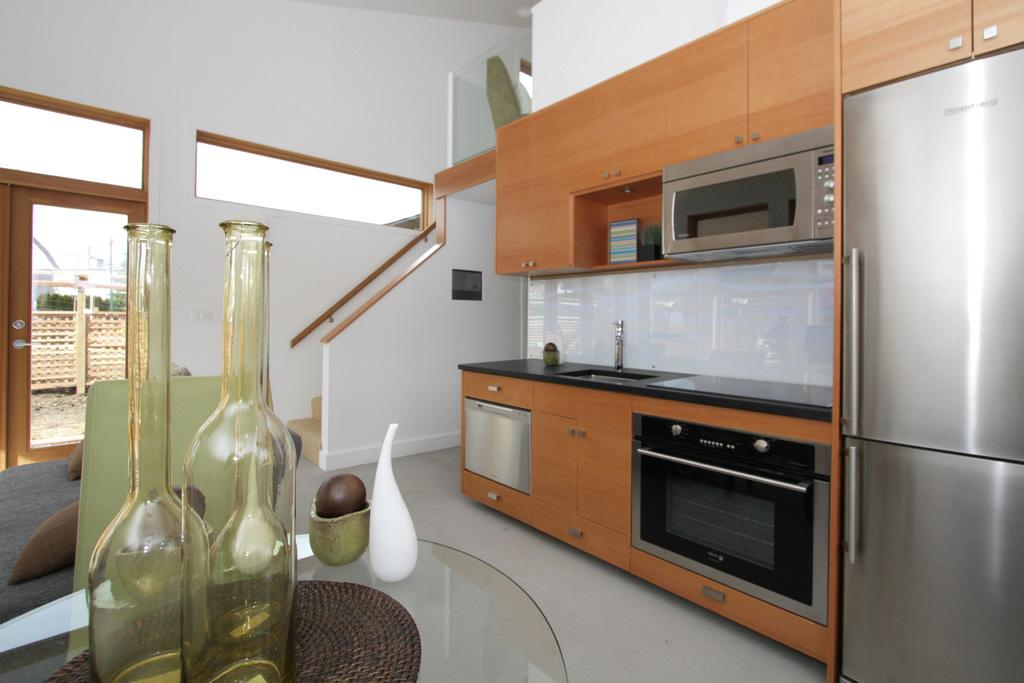cabinet_door: (744, 20, 830, 140), (664, 578, 814, 629), (674, 52, 754, 146), (530, 112, 578, 268), (843, 2, 957, 66), (532, 505, 634, 562), (494, 130, 532, 272), (619, 72, 665, 174), (529, 410, 584, 495), (579, 426, 632, 508), (576, 99, 614, 182), (467, 478, 536, 521), (975, 2, 1024, 46), (471, 370, 531, 400)
handle: (638, 445, 808, 510), (839, 248, 872, 434), (842, 443, 868, 567), (694, 586, 726, 604), (13, 334, 36, 357), (979, 22, 1001, 44), (726, 129, 748, 149), (750, 119, 764, 148), (562, 524, 584, 540), (488, 492, 506, 510), (484, 378, 502, 396), (950, 30, 964, 50)
